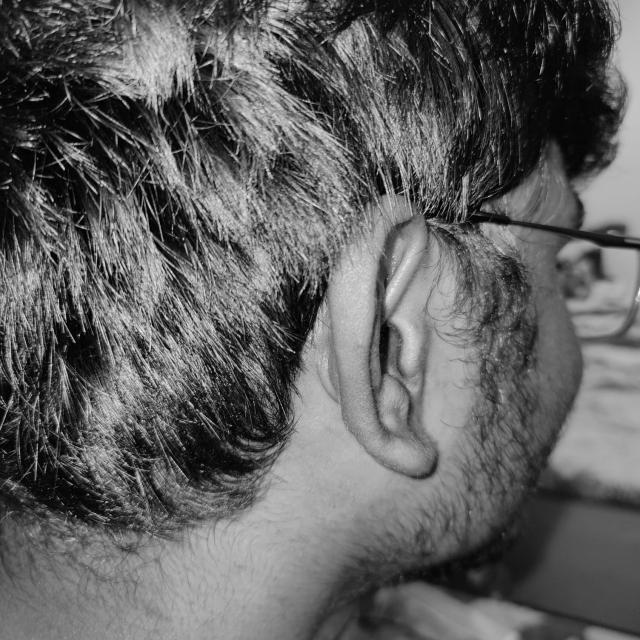ear: (323, 196, 438, 476)
